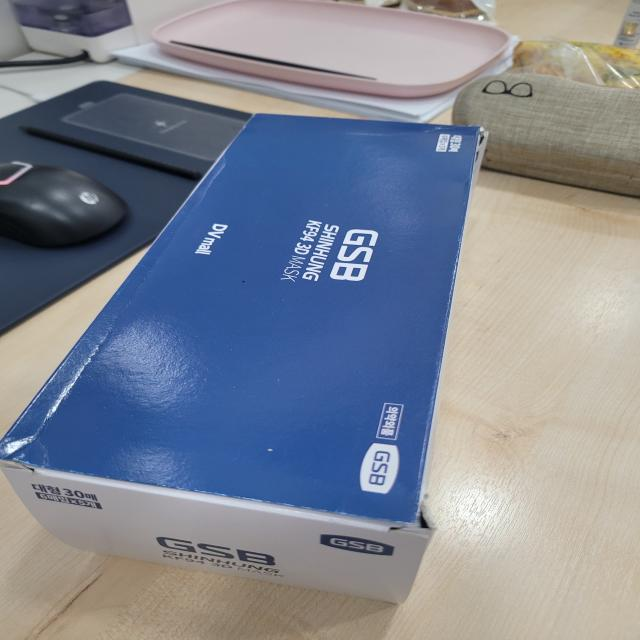mask: (4, 95, 504, 621)
